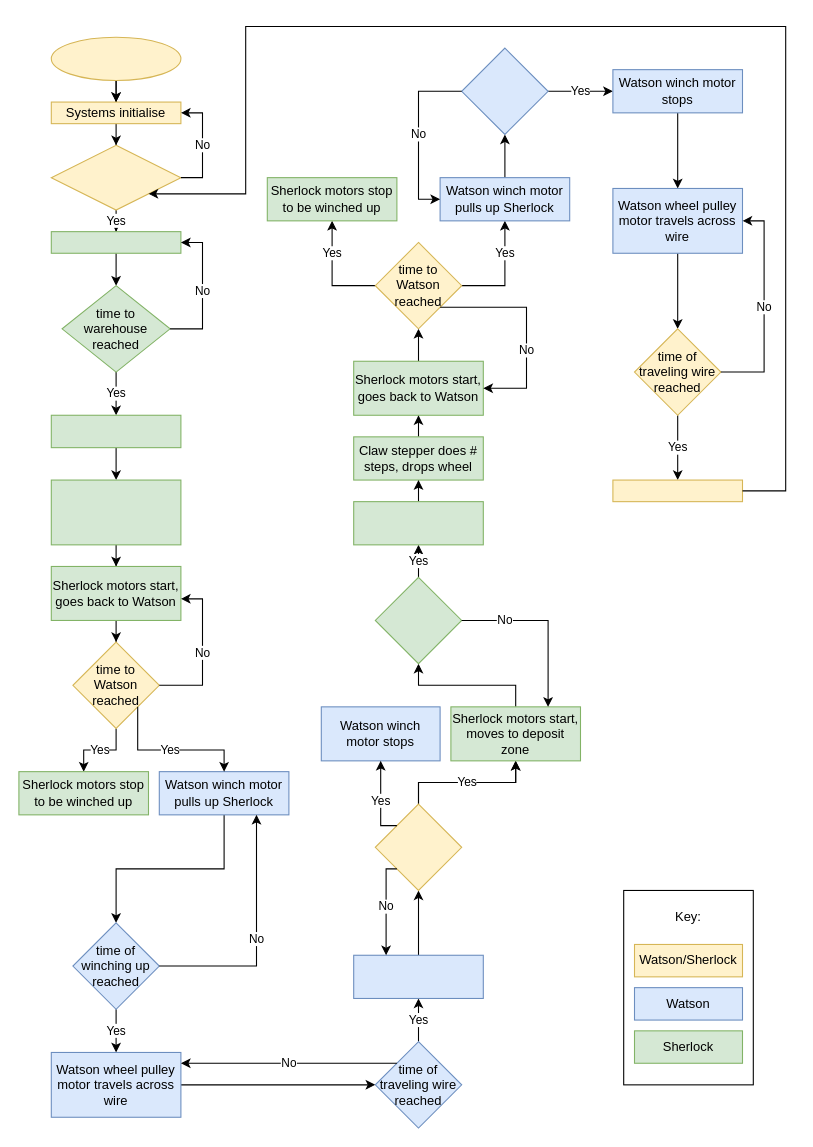
This 813x1147 diagram has some shape labels left out. The shapes that lost their labels are listed below. From the top down, each one's box as (x1, y1, x2, y2) in pixels, then its label:
(50, 36, 181, 80): Start (power is on)
(461, 47, 548, 134): time of winding up reached
(50, 144, 181, 210): Button/switch activated
(50, 231, 181, 253): Sherlock motors start
(50, 414, 181, 448): Sherlock motors stops at warehouse
(612, 479, 742, 502): System stops
(50, 479, 181, 545): Claw stepper does # steps, picks up wheel
(353, 501, 483, 545): Sherlock motors stop at deposit zone
(374, 576, 462, 664): time to deposit zone reached
(374, 803, 462, 890): time of winding down reached
(353, 954, 483, 998): Watson winch motor lets down Sherlock
